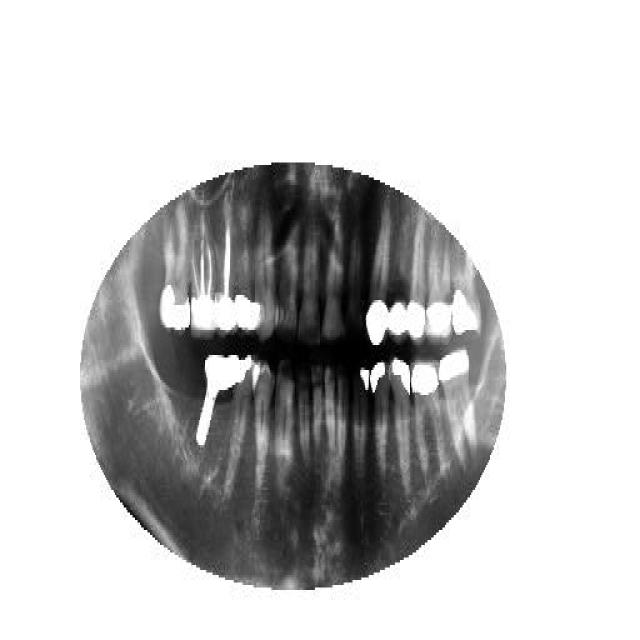Fillings: (225, 350, 255, 498), (440, 350, 476, 462), (159, 202, 190, 332), (410, 352, 442, 470), (389, 355, 411, 510), (370, 358, 389, 512), (386, 207, 406, 345), (424, 243, 451, 345), (405, 212, 426, 342), (365, 220, 386, 348), (448, 268, 482, 342), (352, 367, 368, 495), (235, 240, 253, 332)
Implant: (194, 345, 228, 455), (190, 198, 216, 332), (214, 217, 234, 335)
